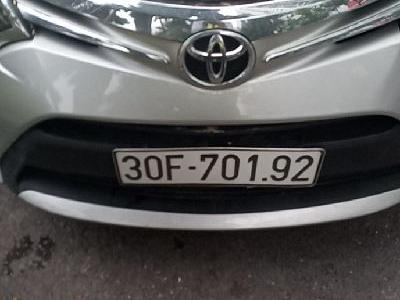lisence: (112, 148, 325, 190)
